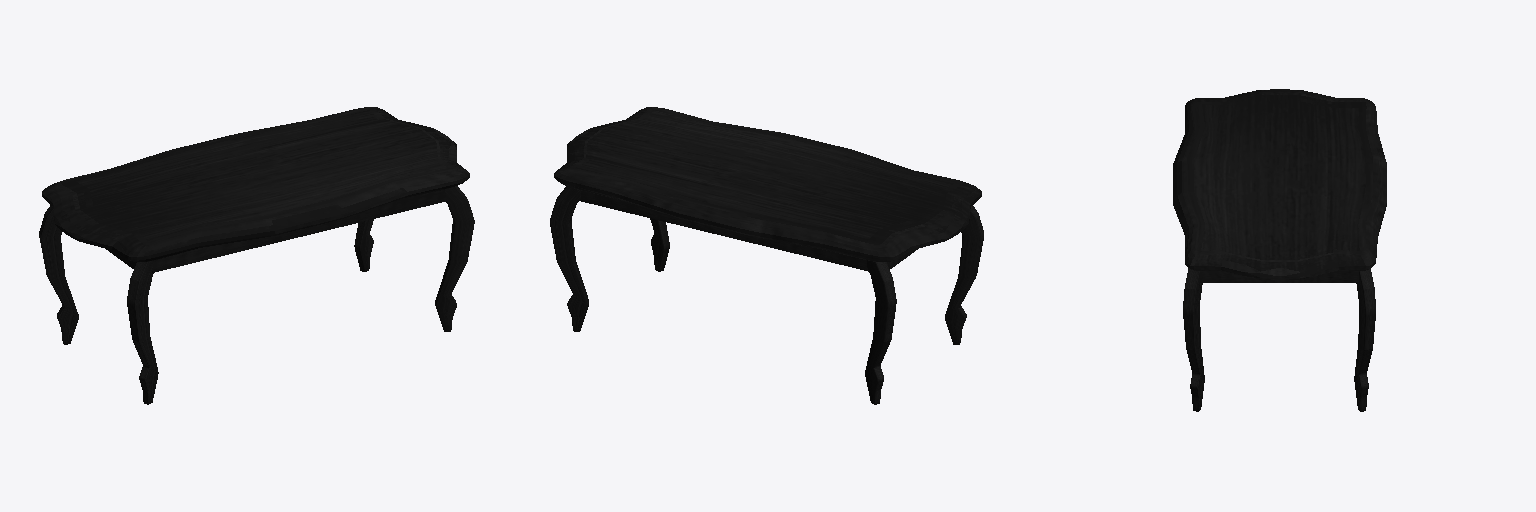
3 renders of one model, left to right at view 1: azimuth 30°, elevation 25°; view 2: azimuth 150°, elevation 25°; view 3: azimuth 270°, elevation 25°, orthographic.
Parts seen in each view (by area): view 1: Cube_Cube.001, Cube.008_Cube.009, Cube.002_Cube.003, Cube.001_Cube.002, Cube.003_Cube.004, Cube.004_Cube.005; view 2: Cube_Cube.001, Cube.004_Cube.005, Cube.003_Cube.004, Cube.006_Cube.007, Cube.001_Cube.002, Cube.002_Cube.003; view 3: Cube_Cube.001, Cube.004_Cube.005, Cube.002_Cube.003, Cube.005_Cube.006.
Part boxes in pixels (x1,y1,x2,y2): Cube_Cube.001: (42,107,469,261); Cube.008_Cube.009: (152,190,445,272); Cube.002_Cube.003: (435,186,474,331); Cube.001_Cube.002: (127,261,158,404); Cube.003_Cube.004: (39,205,78,344); Cube.004_Cube.005: (354,219,373,271); Cube_Cube.001: (554,107,981,261); Cube.004_Cube.005: (550,186,588,331); Cube.003_Cube.004: (865,260,896,404); Cube.006_Cube.007: (580,191,868,271); Cube.001_Cube.002: (945,206,983,344); Cube.002_Cube.003: (650,218,669,271); Cube_Cube.001: (1173,89,1386,279); Cube.004_Cube.005: (1354,269,1375,411); Cube.002_Cube.003: (1183,268,1204,411); Cube.005_Cube.006: (1200,270,1358,282).
Size of the model in its own units: 5.33 by 2.16 by 2.59.
1 materials, 1 textured.